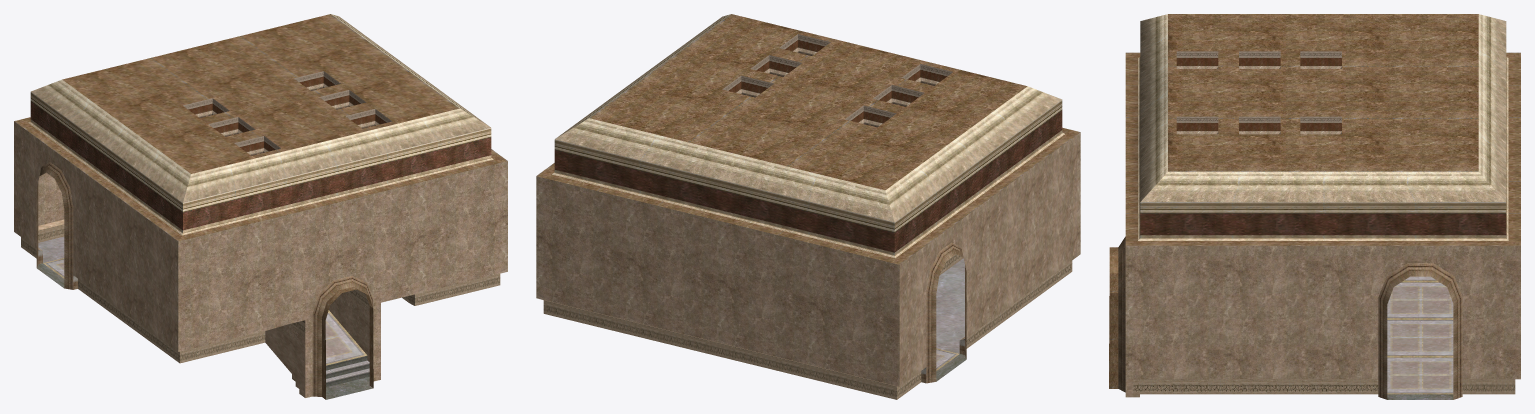
File: thm_nboo_thed_theed_palace_r3_mesh_r3.fbx
The picture shows the model from 3 angles, left to right: view 1: azimuth 30°, elevation 25°; view 2: azimuth 150°, elevation 25°; view 3: azimuth 270°, elevation 25°; orthographic projection. The views are drawn at different scales.
Visible parts, largest first — view 1: mesh_node; view 2: mesh_node; view 3: mesh_node.
Part boxes in pixels (box(x1,y1,x2,y2)): mesh_node: box(14, 14, 507, 399); mesh_node: box(536, 14, 1080, 399); mesh_node: box(1109, 14, 1520, 399).
Size of the model in its own units: 22.7 by 14.98 by 19.8.
